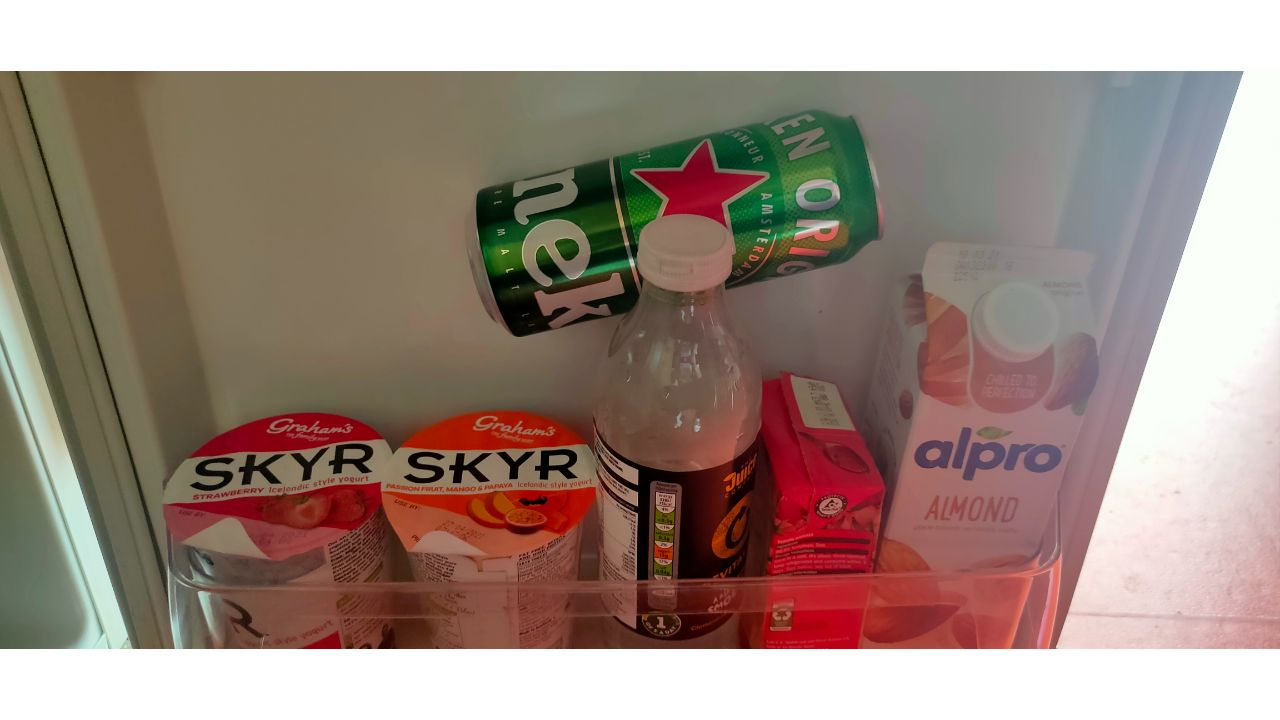Can: (465, 107, 882, 344)
